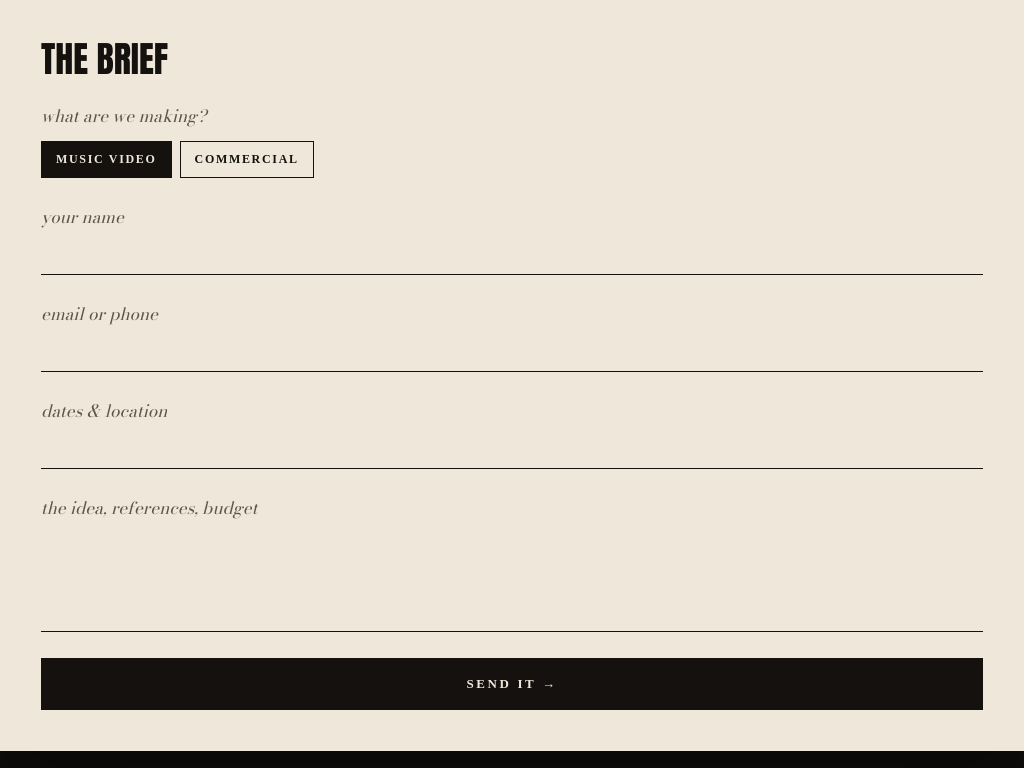
Test: BriefForm › shows a type error under the chips
Type "Asha" into the field labelled "your name" at coordinates (512, 256), box [41,236,983,275]
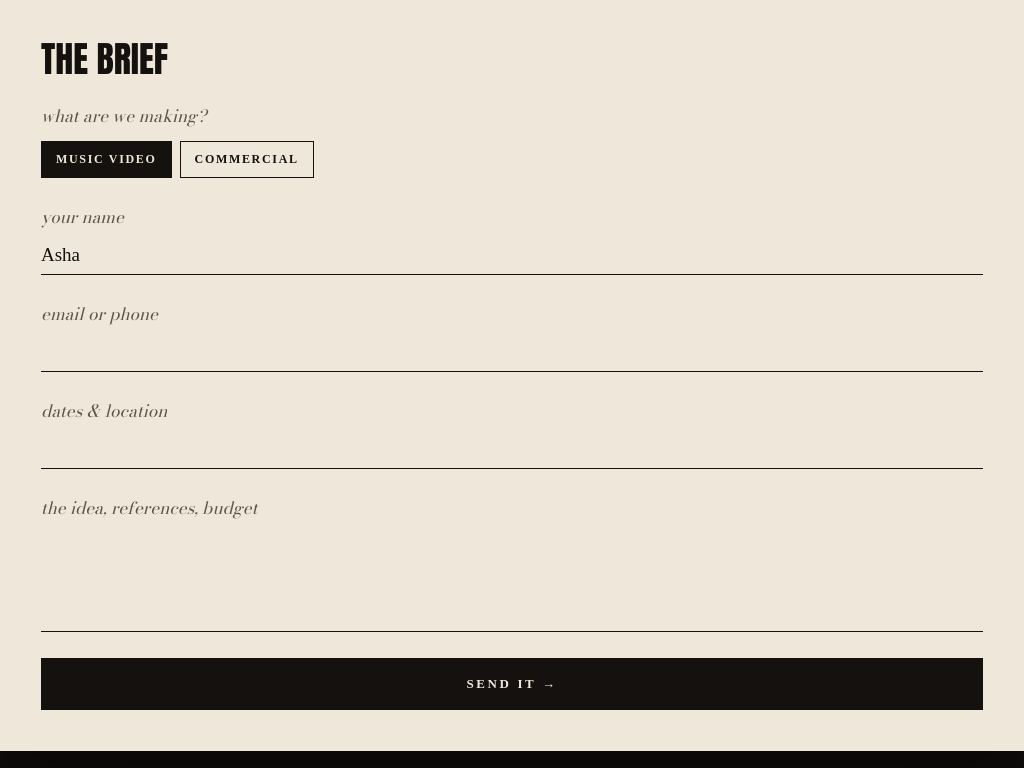
Type "asha@example.com" into the field labelled "email or phone" at coordinates (512, 352), box [41,333,983,372]
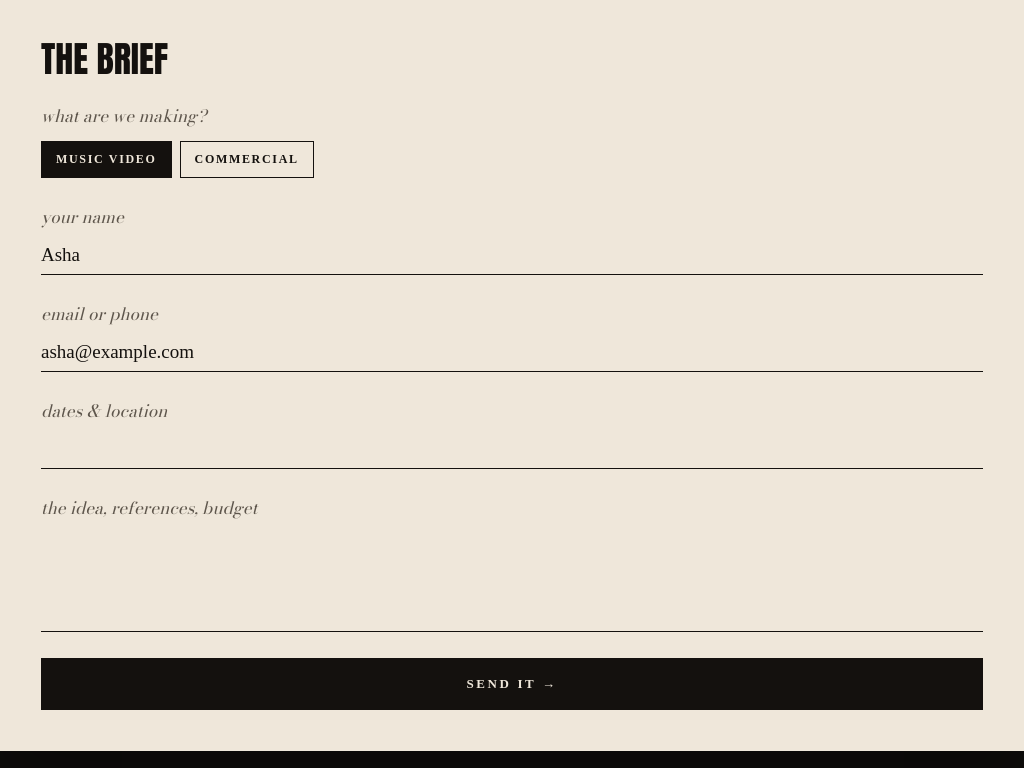
Click the button "Send it →" at coordinates (512, 684), box [41,658,983,710]
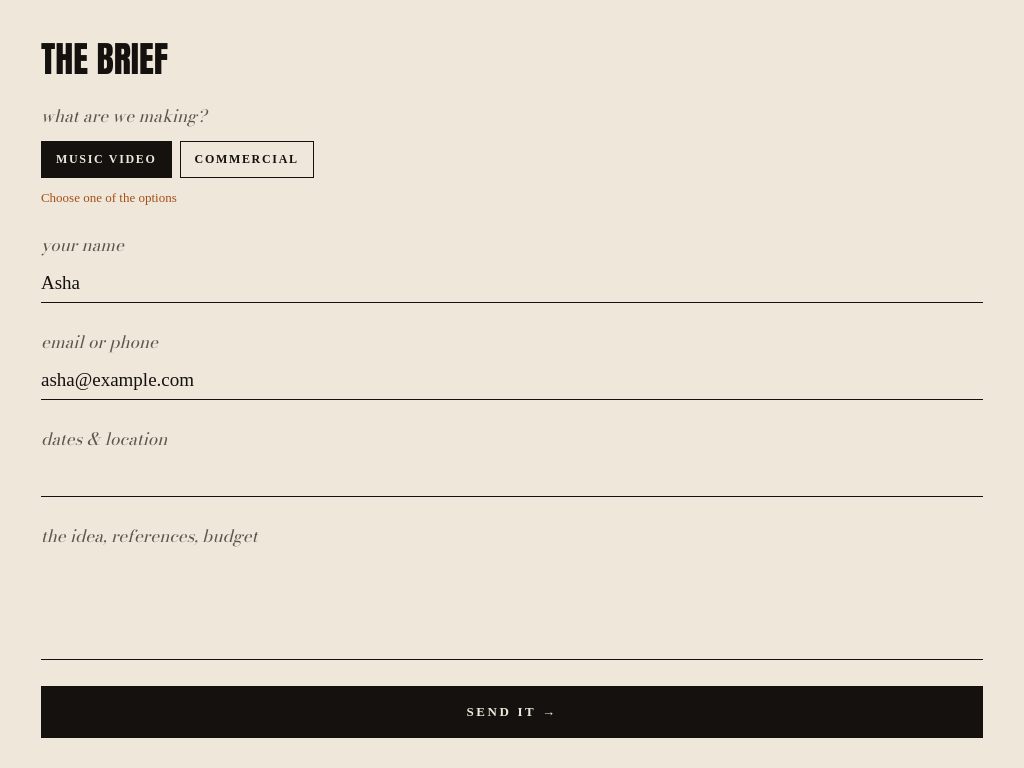
Expected: the buttons read "Music video", "Commercial", in this order, [41,141,172,178]; [180,141,314,178]
Result: the message reads "Choose one of the options" at [41,190,177,205]
